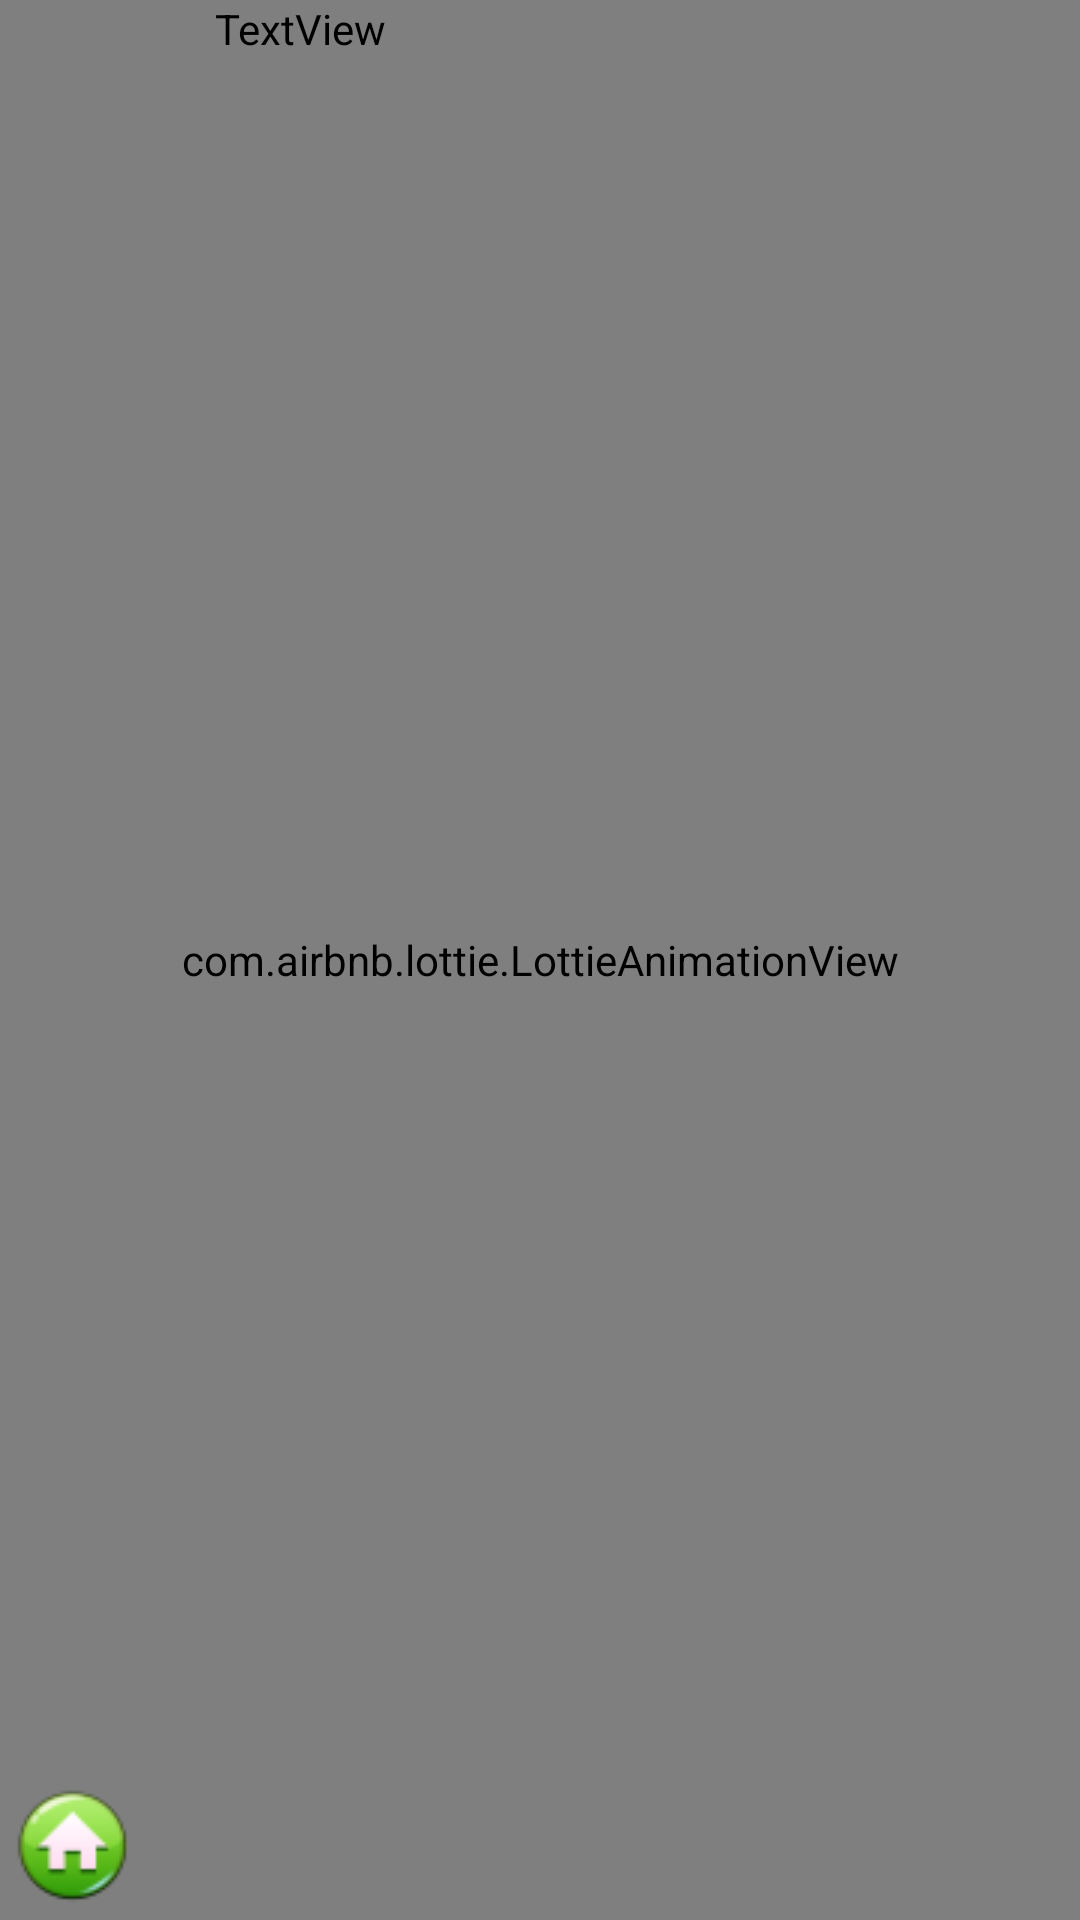

Named icons in this screenshot (1080px x 1920px) and their centers, (x,y):
home: (72,1845)
